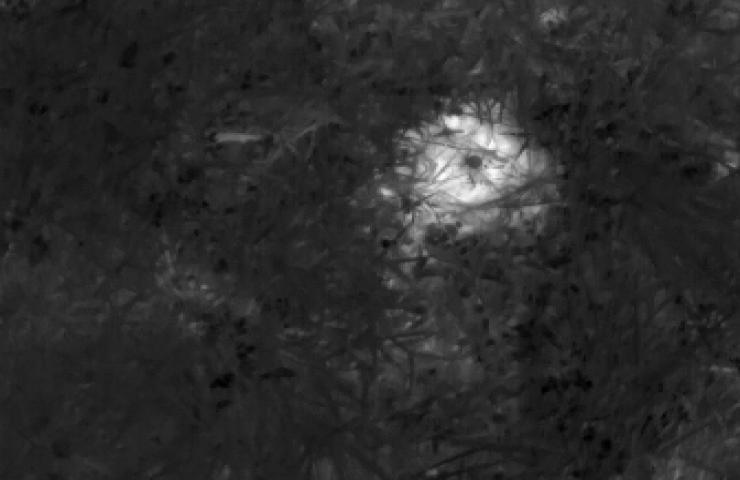landmines: (389, 94, 561, 244)
